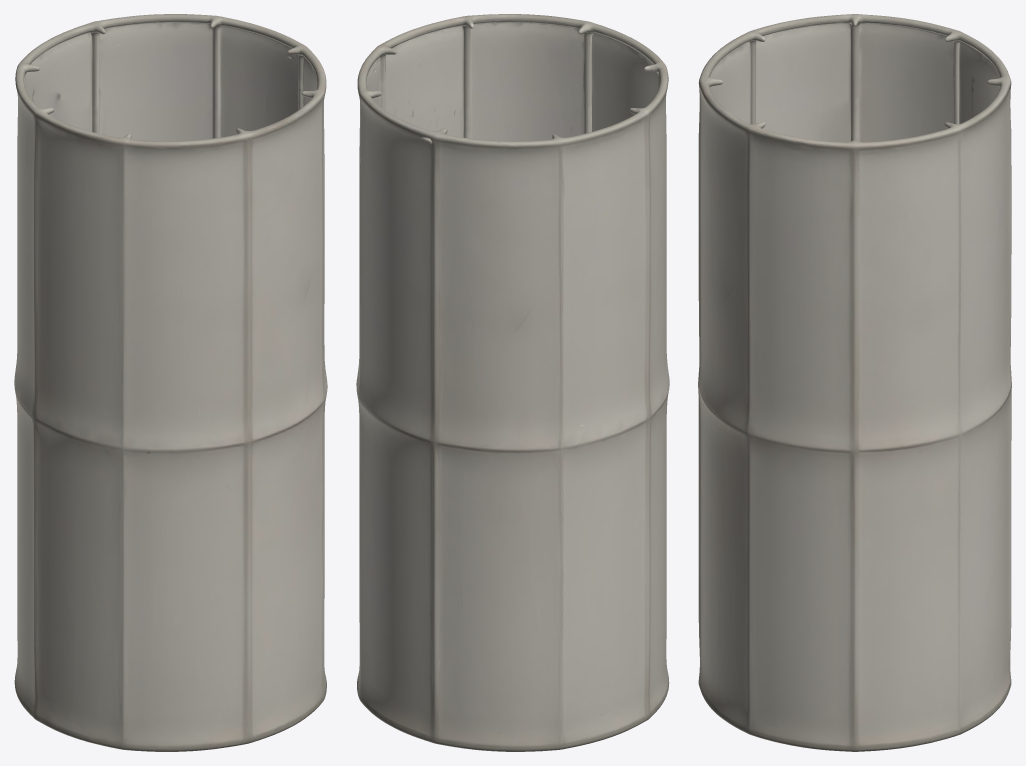
The model's file is paper_pendant.glb.
3 views of the same model, side by side, from view 1: azimuth 30°, elevation 25°; view 2: azimuth 150°, elevation 25°; view 3: azimuth 270°, elevation 25° (orthographic).
Visible parts, largest first — view 1: node_0; view 2: node_0; view 3: node_0.
Boxes of the visible parts, x1,y1,x2,y2 form: node_0: (14, 14, 327, 751); node_0: (356, 14, 669, 751); node_0: (698, 14, 1011, 751).
Bounding box in the file's own units: 0.5129 × 1.09 × 0.51.
1 material, 1 textured.
